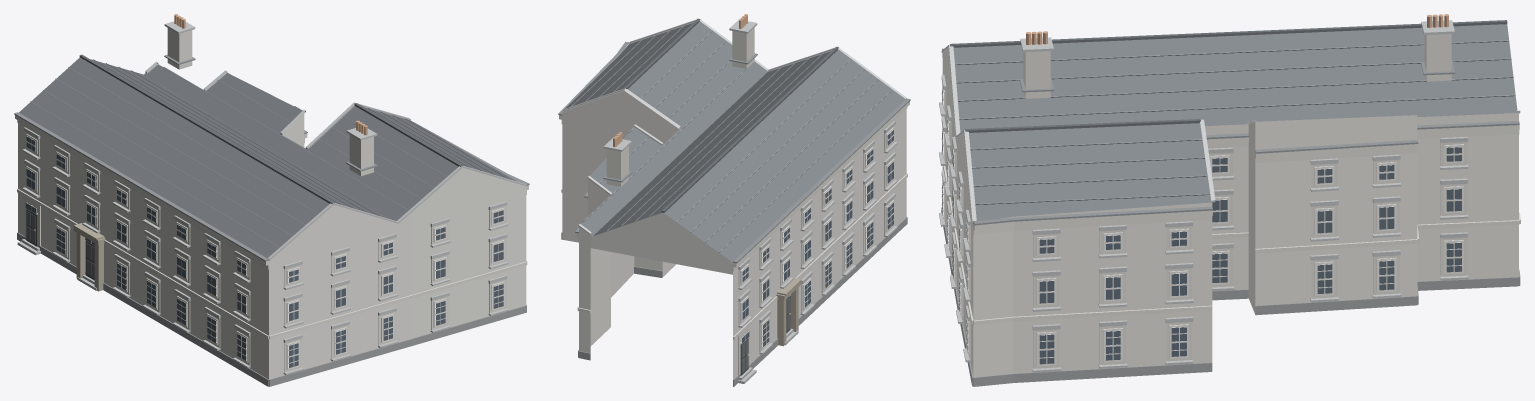
3 renders of one model, left to right at view 1: azimuth 30°, elevation 25°; view 2: azimuth 150°, elevation 25°; view 3: azimuth 270°, elevation 25°, orthographic. The views are drawn at different scales.
Parts seen in each view (by area): view 1: harl, slate, string, stone_band, frame, slate_lt, plinth, lead, chim_render, slate_dk, doorcase, door_dark_p; view 2: slate, harl, stone_band, string, slate_lt, frame, lead, chim_render, plinth, slate_dk, doorcase, door_dark_p; view 3: harl, slate, string, stone_band, frame, slate_lt, plinth, slate_dk, lead, chim_render, pot.
Boxes of the visible parts, x1,y1,x2,y2 form: harl: (18,114,526,379); slate: (19,57,517,258); string: (15,115,528,372); stone_band: (17,21,526,375); frame: (26,134,504,369); slate_lt: (30,59,508,247); plinth: (17,232,526,386); lead: (14,54,529,261); chim_render: (167,28,373,176); slate_dk: (79,54,463,203); doorcase: (73,223,105,291); door_dark_p: (26,211,94,278); slate: (565,21,905,262); harl: (562,91,906,379); stone_band: (561,18,906,383); string: (559,44,909,375); slate_lt: (568,24,892,252); frame: (740,127,894,348); lead: (558,41,910,263); chim_render: (606,28,754,186); plinth: (561,217,907,386); slate_dk: (624,18,838,212); doorcase: (776,277,801,346); door_dark_p: (742,298,790,372); harl: (942,48,1518,377); slate: (953,24,1517,220); string: (941,53,1520,368); stone_band: (939,20,1520,372); frame: (941,84,1463,366); slate_lt: (955,40,1515,204); plinth: (941,207,1520,386); slate_dk: (950,20,1507,132); lead: (942,48,1519,225); chim_render: (1023,34,1451,98); pot: (1026,14,1448,45).
Bounding box in the file's own units: 21.54 × 13.31 × 26.47.
